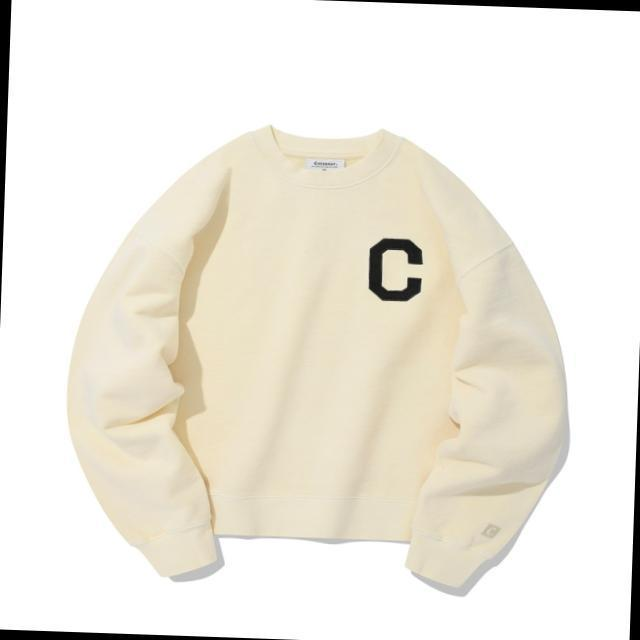sweater: (62, 122, 571, 594)
